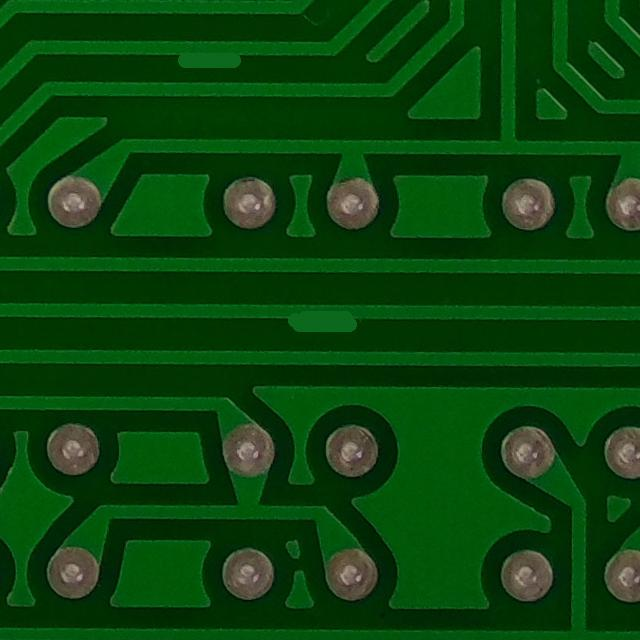spur: (262, 290, 378, 350)
